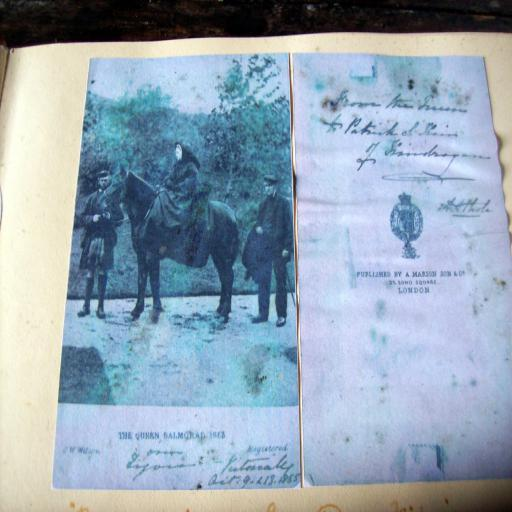horse: (94, 164, 240, 326)
